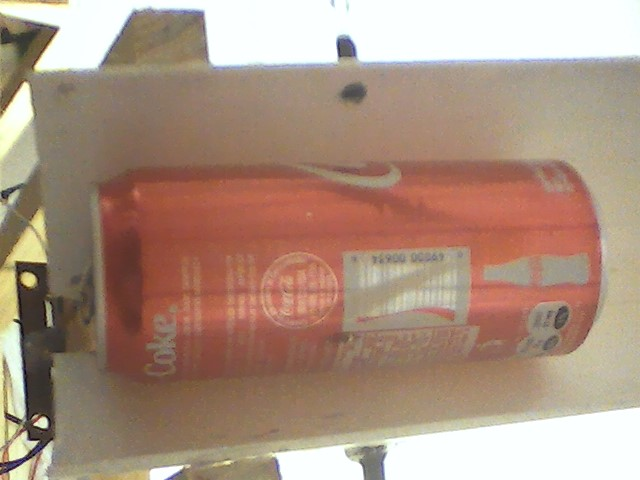lata: (79, 156, 613, 384)
